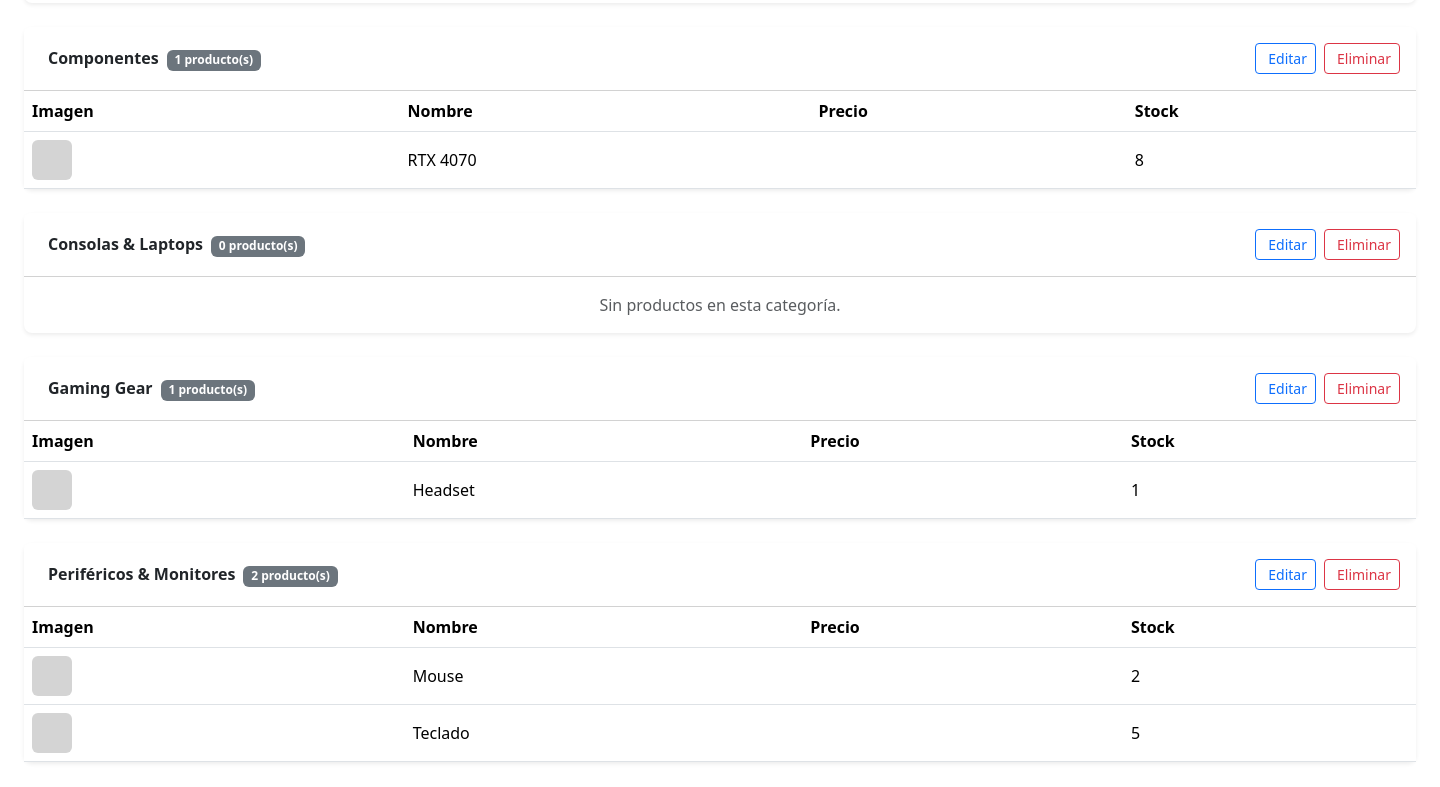
AdminCategorias › editar › guardar cambios actualiza solo la etiqueta: el valor de la categoría no cambia
(page scrolled)
Expected: the text "Periféricos & Monitores" is shown, [48, 563, 235, 585]
Click the button "Editar" in the row of "Periféricos & Monitores" at (1286, 574), box [1255, 559, 1316, 590]
(page scrolled)
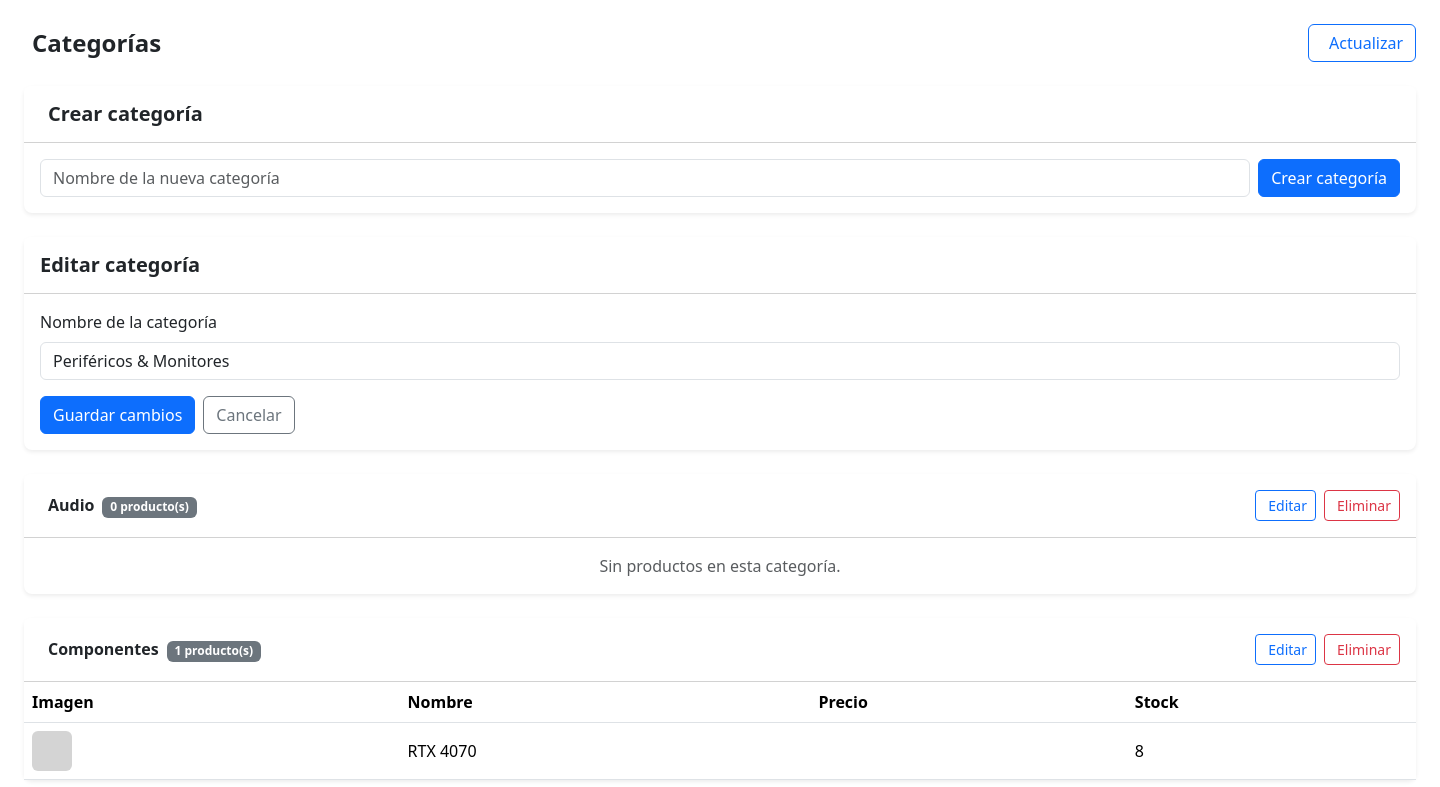
Replace the text in the field labelled "Nombre de la categoría" with "Computación" at (720, 361), box [40, 342, 1400, 380]
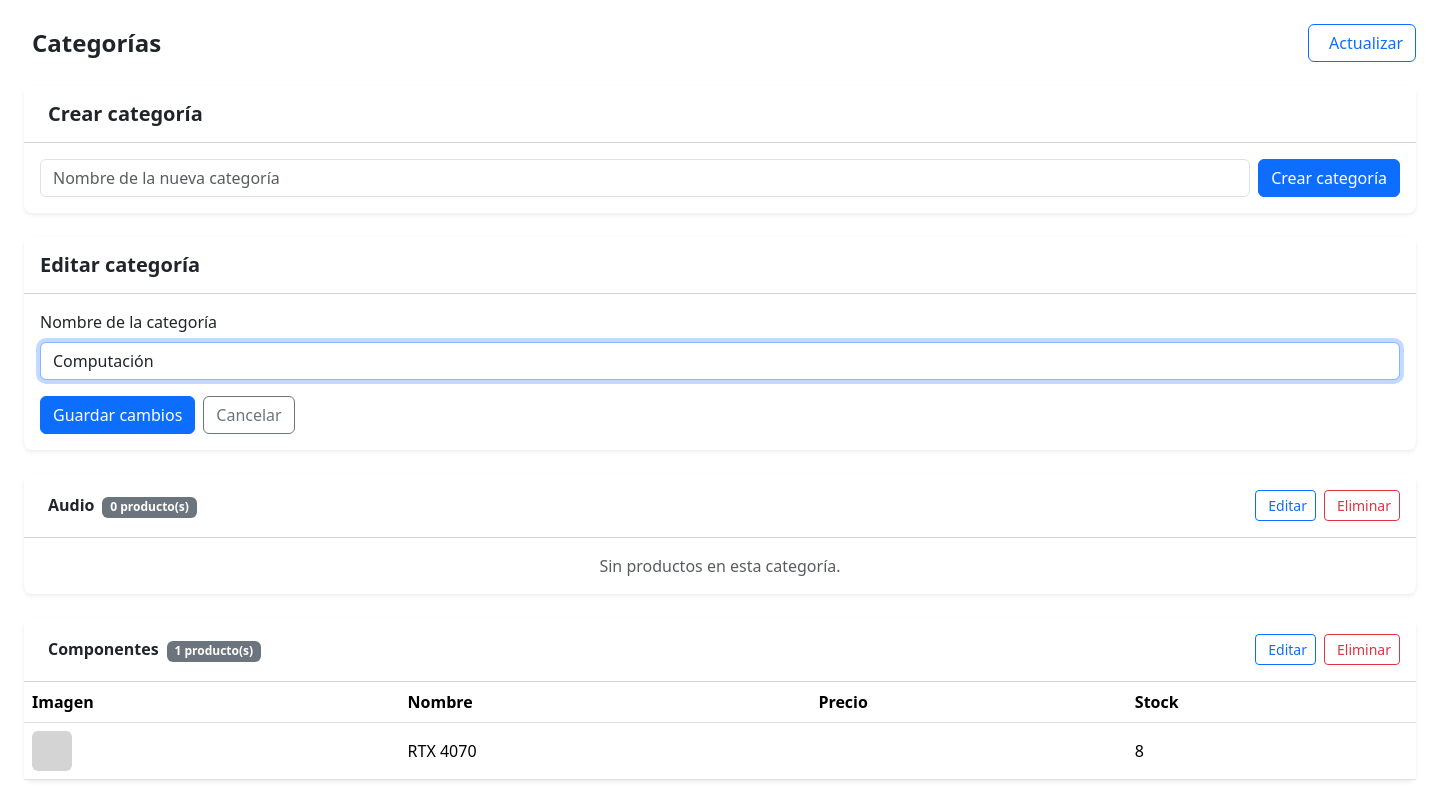
Click the button "Guardar cambios" at (118, 415), box [40, 396, 195, 434]
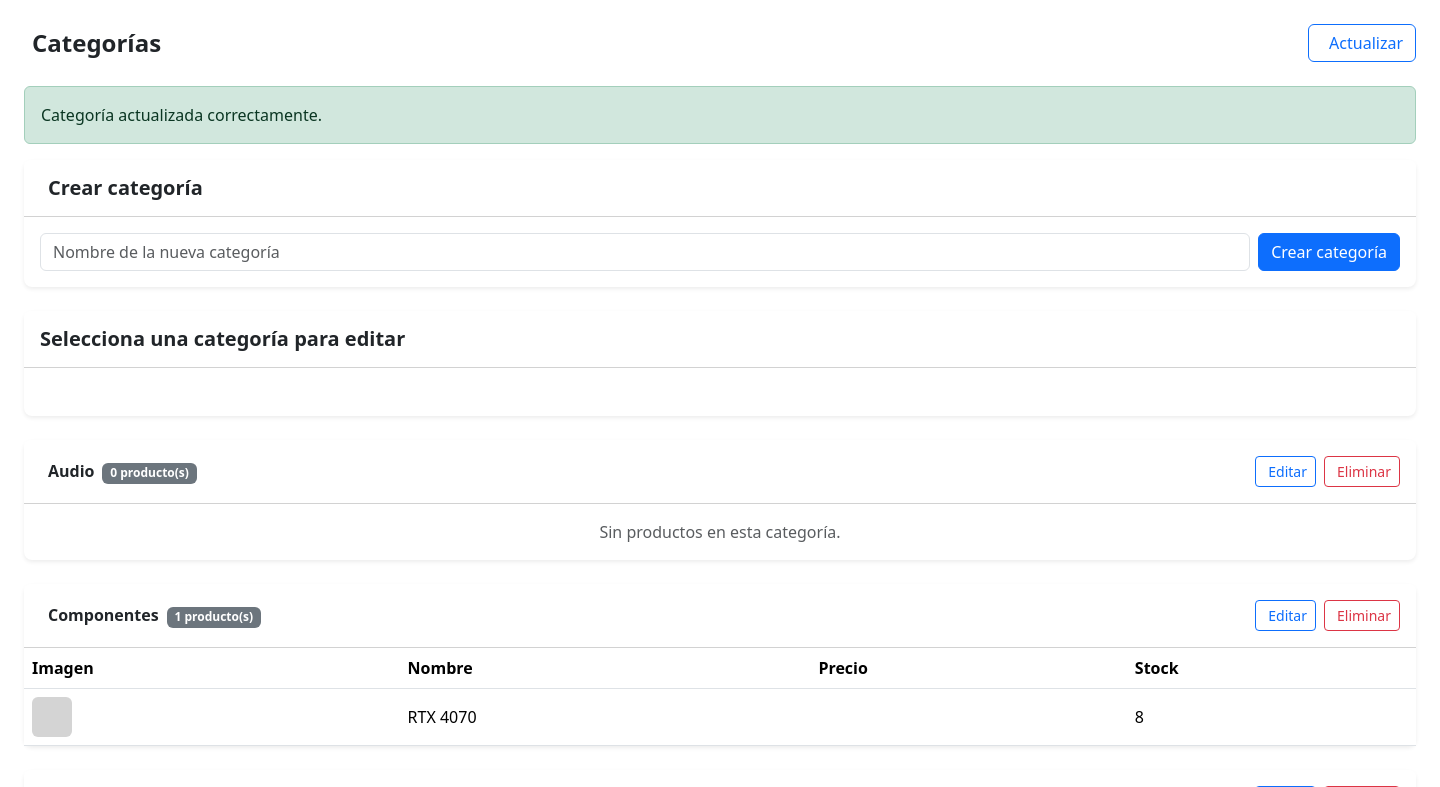
Expected: the text "Categoría actualizada correctamente." is shown, [24, 86, 1416, 144]
Expected: the heading "Selecciona una categoría para editar" is shown, [40, 325, 405, 352]
